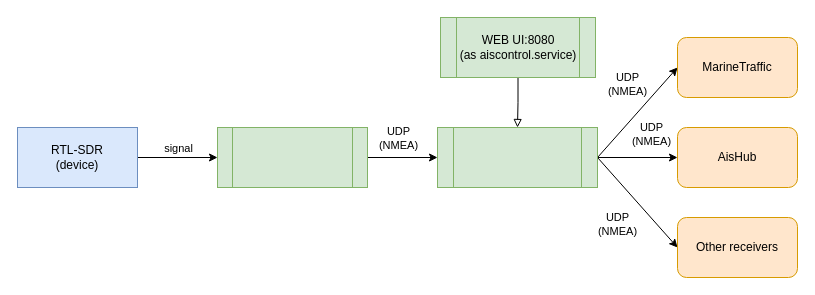
Image size: 815x295. Some labels were removed from this diagram. The centre of each missing label's shape, as x and y in pixels:
aisdispatcher@1 (service): pixel 517 157
rtl_ais (as ais-feed.service): pixel 292 157
